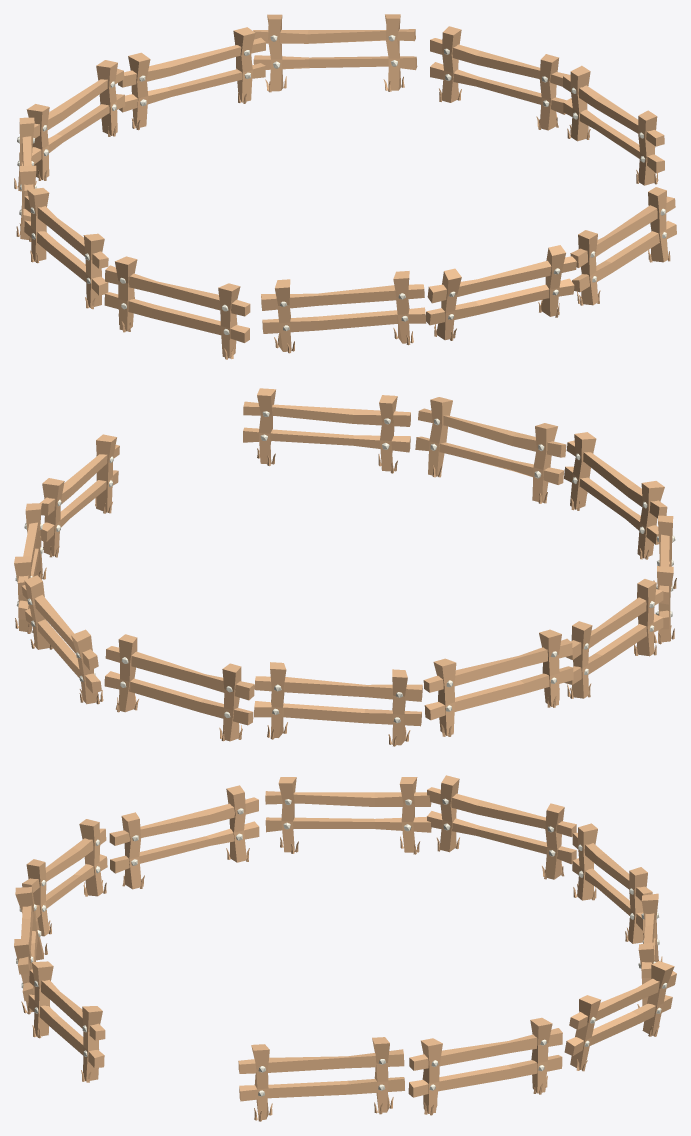
The model's file is fence-orange.gltf.
The picture shows the model from 3 angles, top to bottom: view 1: azimuth 30°, elevation 25°; view 2: azimuth 150°, elevation 25°; view 3: azimuth 270°, elevation 25°; orthographic projection. The views are drawn at different scales.
Parts seen in each view (by area): view 1: Cube.051, Cube.053, Cube.052, Cube.057, Cube.056, Cube.058, Cube.060, Cube.059, Cube.054, Cube.061, Cube.055; view 2: Cube.054, Cube.056, Cube.055, Cube.060, Cube.053, Cube.051, Cube.061, Cube.059, Cube.057, Cube.058, Cube.052; view 3: Cube.059, Cube.058, Cube.061, Cube.052, Cube.055, Cube.057, Cube.060, Cube.054, Cube.051, Cube.053, Cube.056.
Boxes of the visible parts, box(x1,y1,x2,y2) form: Cube.051: box(261, 271, 426, 353); Cube.053: box(425, 245, 576, 340); Cube.052: box(104, 256, 250, 359); Cube.057: box(253, 14, 417, 92); Cube.056: box(118, 27, 265, 130); Cube.058: box(430, 26, 569, 130); Cube.060: box(570, 187, 676, 305); Cube.059: box(563, 65, 664, 185); Cube.054: box(26, 60, 125, 180); Cube.061: box(24, 188, 108, 309); Cube.055: box(14, 117, 36, 241); Cube.054: box(254, 662, 422, 746); Cube.056: box(104, 634, 254, 741); Cube.055: box(423, 629, 573, 736); Cube.060: box(243, 388, 410, 473); Cube.053: box(415, 397, 566, 503); Cube.051: box(564, 432, 667, 559); Cube.061: box(564, 579, 663, 698); Cube.059: box(40, 434, 119, 557); Cube.057: box(21, 575, 103, 704); Cube.058: box(14, 503, 46, 633); Cube.052: box(653, 515, 676, 644); Cube.059: box(238, 1037, 404, 1121); Cube.058: box(408, 1017, 562, 1115); Cube.061: box(265, 777, 431, 854); Cube.052: box(109, 785, 259, 889); Cube.055: box(427, 775, 576, 879); Cube.057: box(564, 961, 676, 1071); Cube.060: box(28, 961, 105, 1082); Cube.054: box(572, 823, 652, 943); Cube.051: box(22, 819, 107, 936); Cube.053: box(14, 887, 47, 1014); Cube.056: box(637, 893, 662, 1007).
Bounding box in the file's own units: 11.19 × 1.62 × 11.31.
